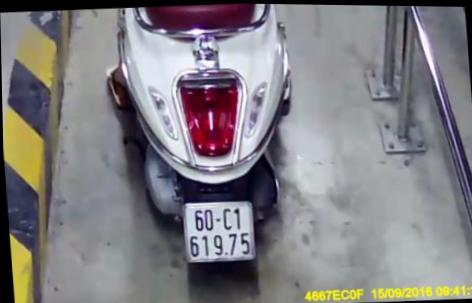LP: (183, 199, 254, 262)
